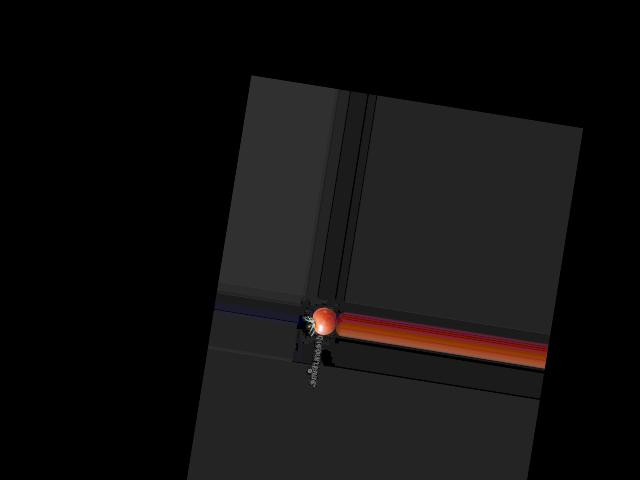tomato: (310, 306, 337, 337)
